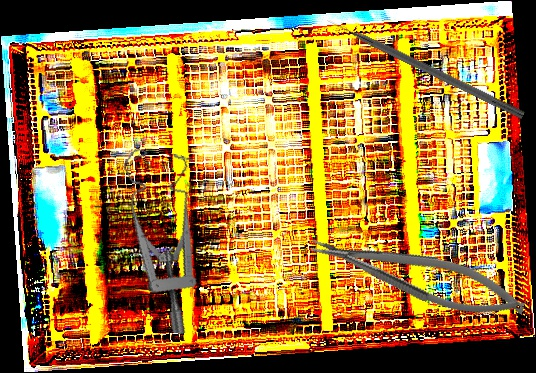Hook Surgical: (325, 13, 527, 120)
Needle Holder: (306, 216, 531, 333)
Speculum: (85, 141, 230, 336)
